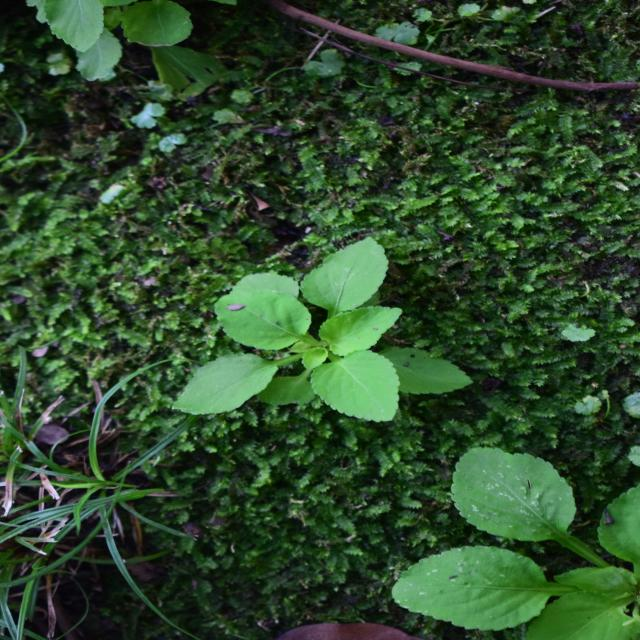Viola: (213, 178, 419, 451)
